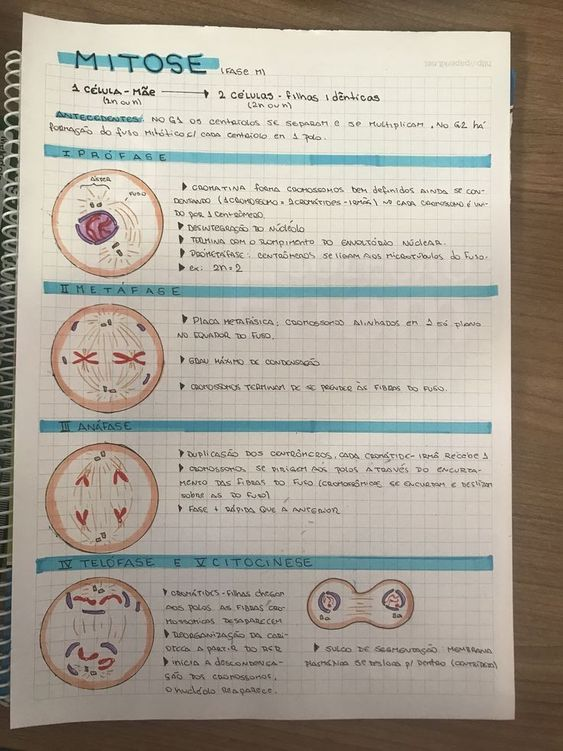page: (26, 32, 506, 716)
